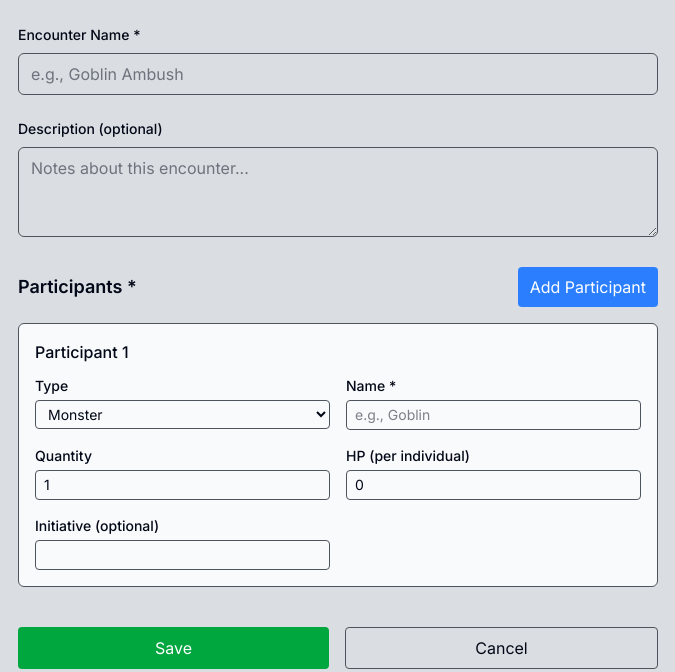
Test case: NewEncounterPage - Form Validation & Submission › Form validation › validates empty name on submit
(page scrolled)
Click the button "Save" at (174, 648), box [18,627,329,669]
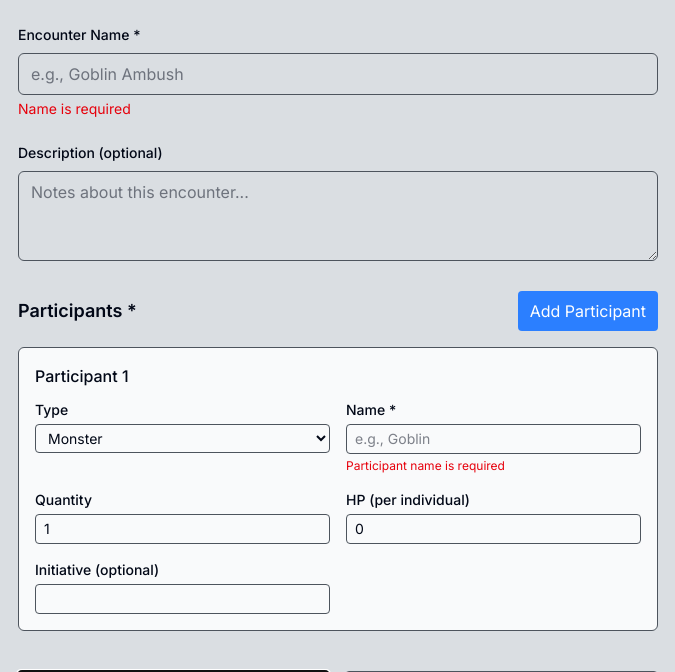
Expected: the text "Name is required" is shown, [18,100,131,117]
